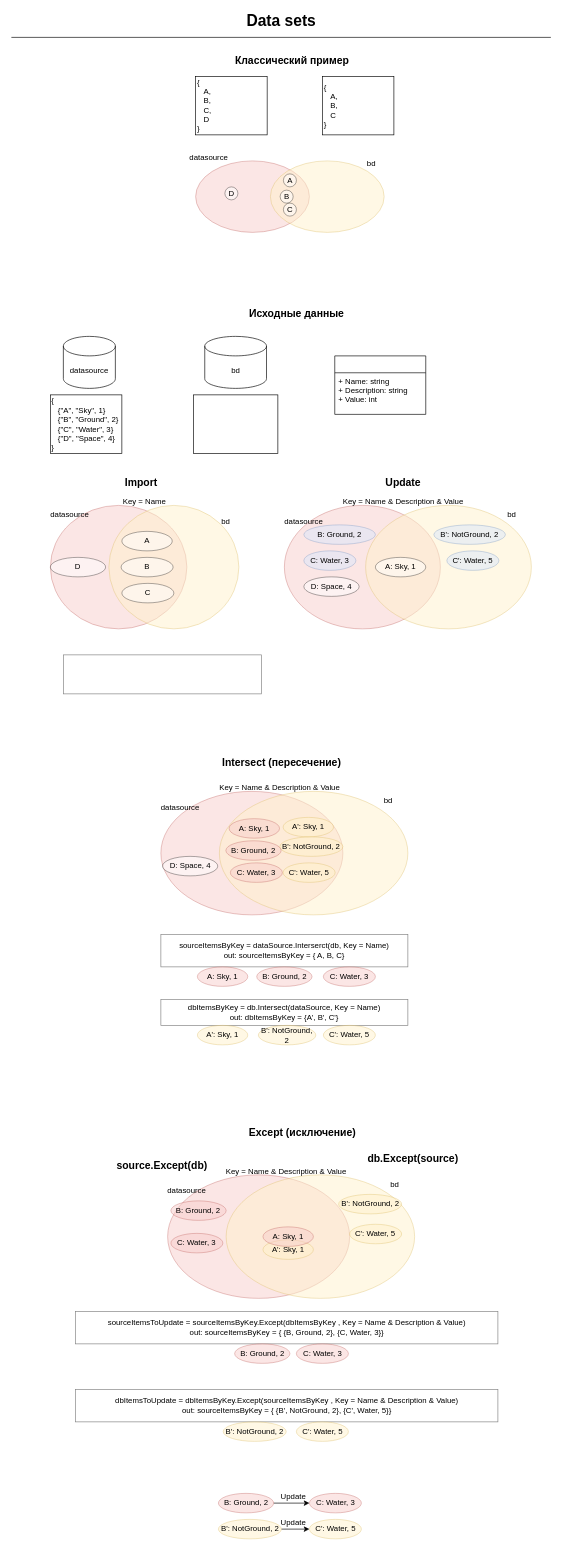
Some shapes in this 563 by 1550 pixel diagram are drawn without their labels. The box of each missing label's shape, as (x1, y1, x2, y2) in pixels:
Entity: (334, 355, 426, 414)
import = dataSource.Except(db, Key = Name) out: import = { {D, Space, 4} }: (63, 654, 262, 694)
{ {"A", "Sky", 1} {"B", "NotGround", 2} {"C", "Water", 5} }: (193, 394, 278, 453)
